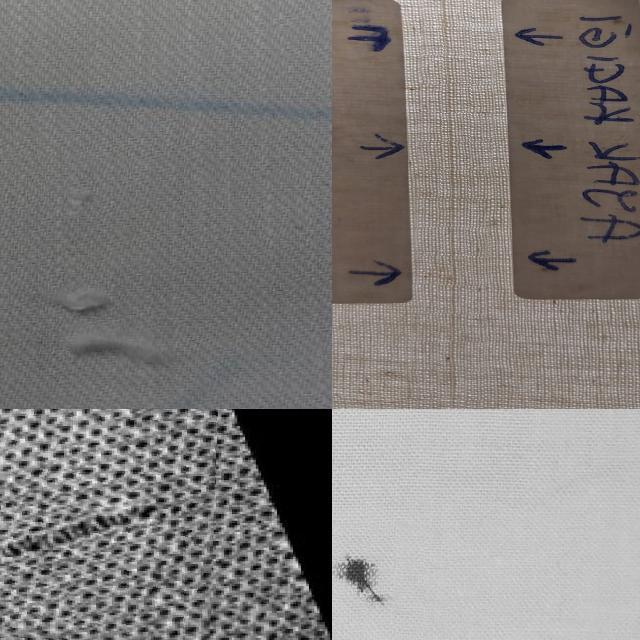Thread_other: (332, 523, 445, 640)
stains: (0, 409, 215, 640), (0, 156, 179, 406), (413, 0, 500, 409)
